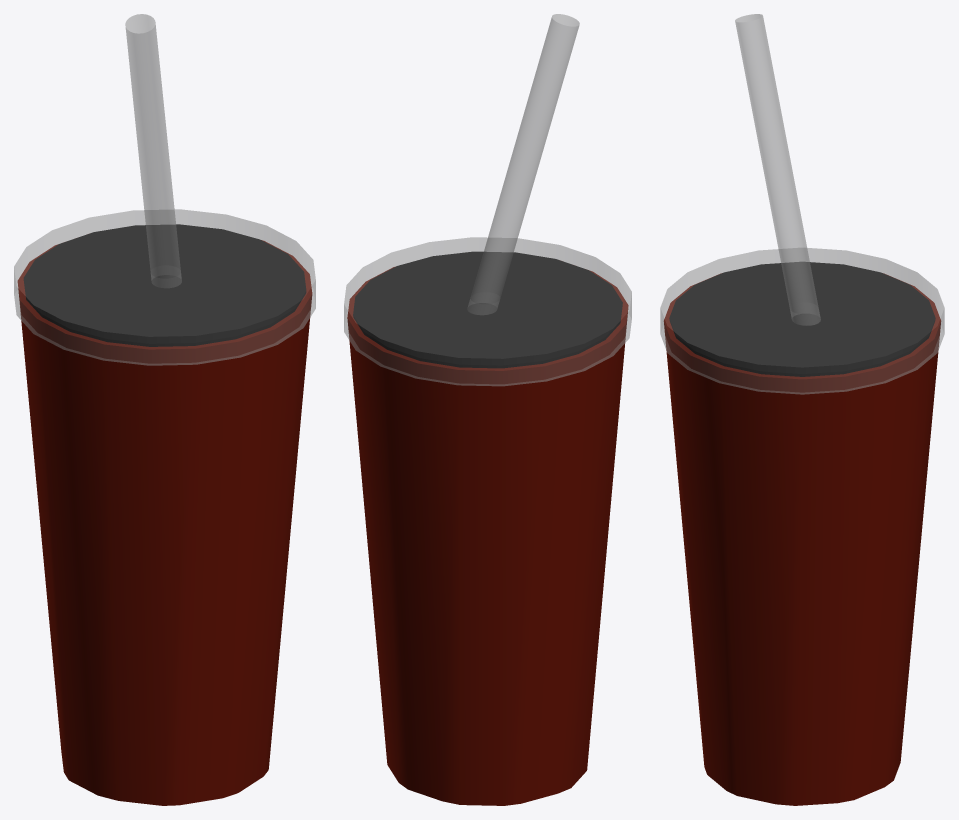
The model's file is Movie Drink.fbx.
3 views of the same model, side by side, from view 1: azimuth 30°, elevation 25°; view 2: azimuth 150°, elevation 25°; view 3: azimuth 270°, elevation 25° (orthographic). The views are drawn at different scales.
Parts seen in each view (by area): view 1: pCylinder1, pasted__pCylinder2, pasted__pCylinder1, pCylinder2; view 2: pCylinder1, pasted__pCylinder2, pasted__pCylinder1, pCylinder2; view 3: pCylinder1, pasted__pCylinder2, pasted__pCylinder1, pCylinder2.
Part boxes in pixels (left/top/right/bottom): pCylinder1: left=17, top=240, right=312, bottom=805; pasted__pCylinder2: left=14, top=209, right=315, bottom=365; pasted__pCylinder1: left=23, top=224, right=306, bottom=346; pCylinder2: left=125, top=14, right=181, bottom=287; pCylinder1: left=347, top=267, right=628, bottom=805; pasted__pCylinder2: left=344, top=237, right=631, bottom=386; pasted__pCylinder1: left=353, top=251, right=622, bottom=368; pCylinder2: left=468, top=14, right=579, bottom=314; pCylinder1: left=664, top=273, right=940, bottom=805; pasted__pCylinder2: left=660, top=248, right=944, bottom=394; pasted__pCylinder1: left=669, top=262, right=935, bottom=376; pCylinder2: left=735, top=14, right=820, bottom=325.
Size of the model in its own units: 11.61 by 32.7 by 11.61.
